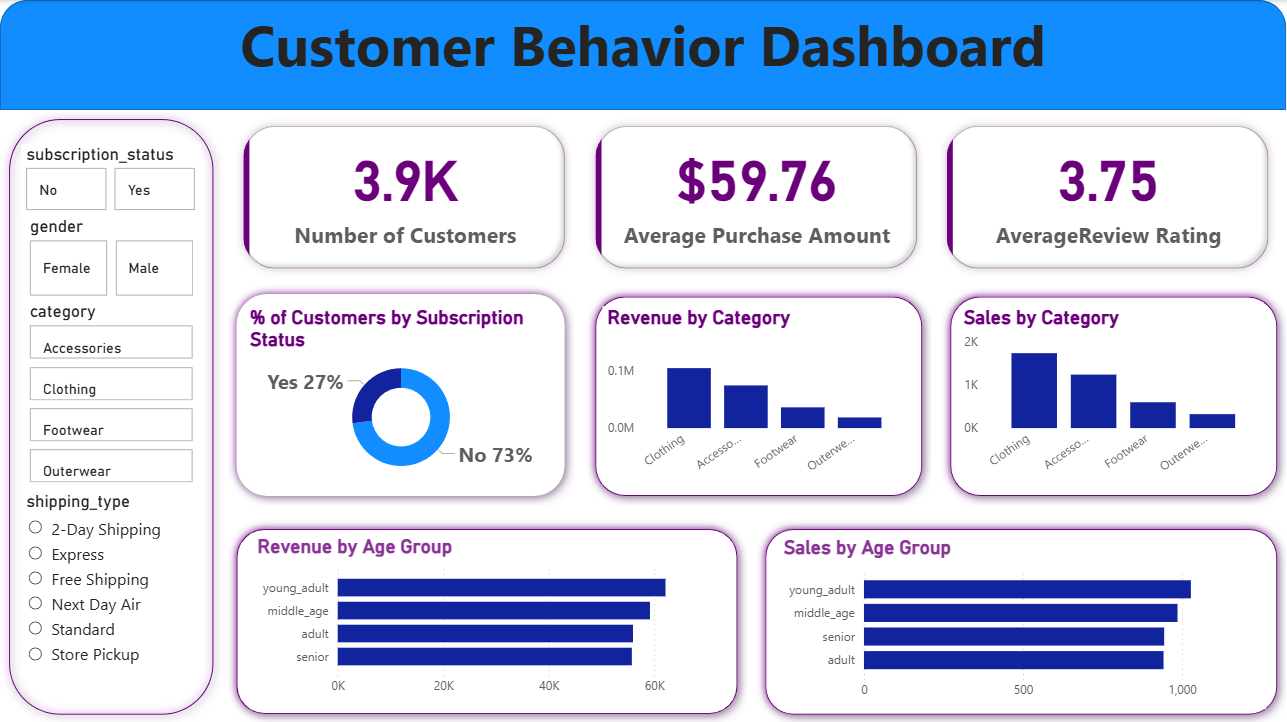

This screenshot's page, from the dashboard's own definition file:
{"tool":"powerbi","page":{"name":"Page 1","canvas":[1280,720],"ordinal":0},"visuals":[{"type":"cardVisual","fields":{"Data":["customer_behavior customer.Number of Customers","customer_behavior customer.Average Purchase Amount","customer_behavior customer.AverageReview Rating"]},"box":[226.5,109.6,1053.2,174.6],"z":0},{"type":"shape","box":[0,0,1280,109.5],"z":1000},{"type":"textbox","box":[0,0,1280,109.5],"z":2000},{"type":"shape","box":[226.5,518,516.5,202],"z":2500,"group":"g1"},{"type":"shape","box":[226.4,283.6,344.6,218.9],"z":3000},{"type":"donutChart","title":"% of Customers by Subscription Status","fields":{"Category":["customer_behavior customer.subscription_status"],"Y":["CountNonNull(customer_behavior customer.customer_id)"]},"box":[243.8,304.8,311,177.9],"z":4000},{"type":"shape","box":[583.4,286.1,343.3,216.4],"z":5000},{"type":"shape","box":[936.7,286.1,343.3,216.4],"z":6000},{"type":"shape","box":[752.6,517.5,527.4,202.8],"z":7000},{"type":"shape","box":[0,109.5,221.4,610.8],"z":8000},{"type":"clusteredColumnChart","title":"Revenue by Category","fields":{"Category":["customer_behavior customer.category"],"Y":["Sum(customer_behavior customer.purchase_amount)"]},"box":[600.2,304.4,307.3,177.5],"z":9000},{"type":"clusteredColumnChart","title":"Sales by Category","fields":{"Category":["customer_behavior customer.category"],"Y":["CountNonNull(customer_behavior customer.customer_id)"]},"box":[953.7,304.4,305.9,177.5],"z":10000},{"type":"clusteredBarChart","title":"Sales by Age Group","fields":{"Category":["customer_behavior customer.age_group"],"Y":["CountNonNull(customer_behavior customer.customer_id)"]},"box":[774.8,533.8,484.8,171.7],"z":11000},{"type":"group","id":"g1","title":"Group 1","box":[226.5,518,516.5,202],"z":12000},{"type":"advancedSlicerVisual","fields":{"Values":["customer_behavior customer.subscription_status"]},"box":[21.1,143.1,179.1,72.1],"z":13000},{"type":"advancedSlicerVisual","fields":{"Values":["customer_behavior customer.gender"]},"box":[24.9,215.2,172.9,84.6],"z":14000},{"type":"advancedSlicerVisual","fields":{"Values":["customer_behavior customer.category"]},"box":[24.9,299.8,172.9,189.1],"z":15000},{"type":"listSlicer","fields":{"Values":["customer_behavior customer.shipping_type"]},"box":[21.1,488.9,180.4,230.1],"z":16000},{"type":"clusteredBarChart","title":"Revenue by Age Group","fields":{"Category":["customer_behavior customer.age_group"],"Y":["Sum(customer_behavior customer.purchase_amount)"]},"box":[251.7,532.5,467.5,168.8],"z":17500,"group":"g1"}]}

Visuals, with their boxes in screenshot pixels (x1, y1, x2, y2), scaled from the page's 1280x720 canvas onto the 1287x722 screenshot:
cardVisual - customer_behavior customer.Number of Customers x customer_behavior customer.Average Purchase Amount: 228 110 1286 285
shape: 0 0 1286 110
textbox: 0 0 1286 110
shape: 228 519 747 721
shape: 228 284 574 504
"% of Customers by Subscription Status" donutChart: 245 306 558 484
shape: 587 287 932 504
shape: 942 287 1286 504
shape: 757 519 1286 721
shape: 0 110 223 721
"Revenue by Category" clusteredColumnChart: 603 305 912 483
"Sales by Category" clusteredColumnChart: 959 305 1266 483
"Sales by Age Group" clusteredBarChart: 779 535 1266 707
"Group 1" group: 228 519 747 721
advancedSlicerVisual - customer_behavior customer.subscription_status: 21 143 201 216
advancedSlicerVisual - customer_behavior customer.gender: 25 216 199 301
advancedSlicerVisual - customer_behavior customer.category: 25 301 199 490
listSlicer - customer_behavior customer.shipping_type: 21 490 203 721
"Revenue by Age Group" clusteredBarChart: 253 534 723 703
